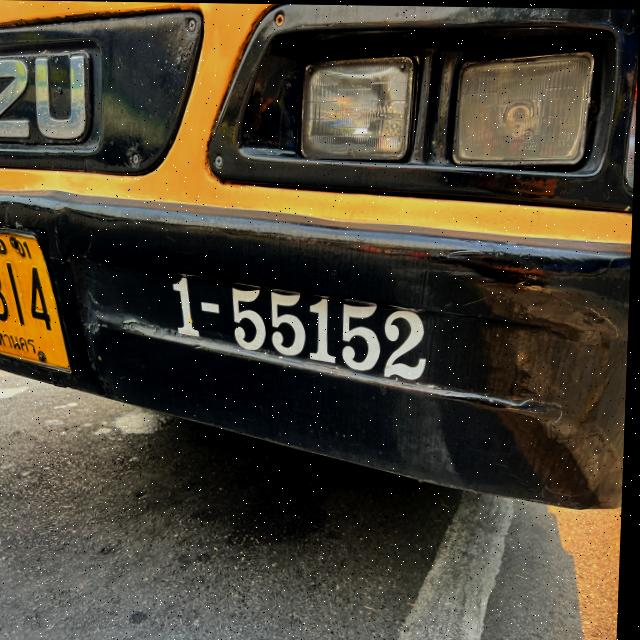BMTA-bus: (0, 0, 640, 515)
Bus Side Number: (162, 254, 458, 413)
